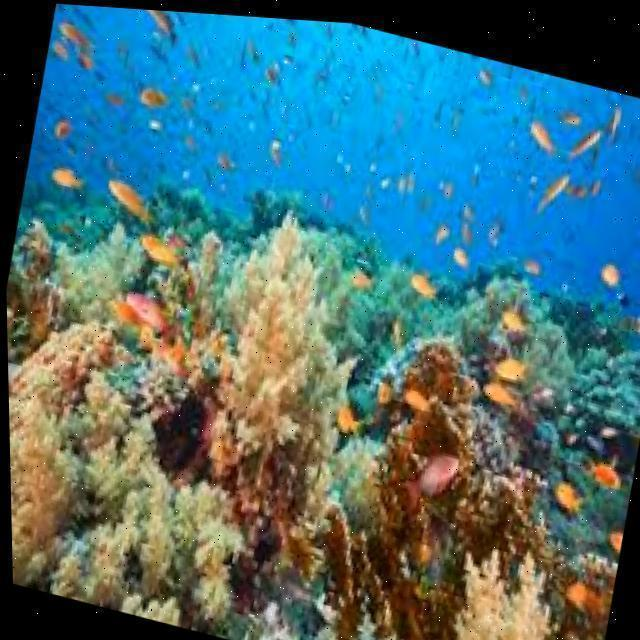Healthy Coral: (305, 301, 640, 640), (174, 189, 372, 485), (5, 290, 179, 615)
